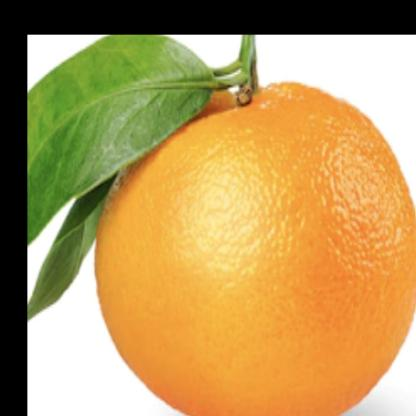fresh: (87, 65, 416, 416)
